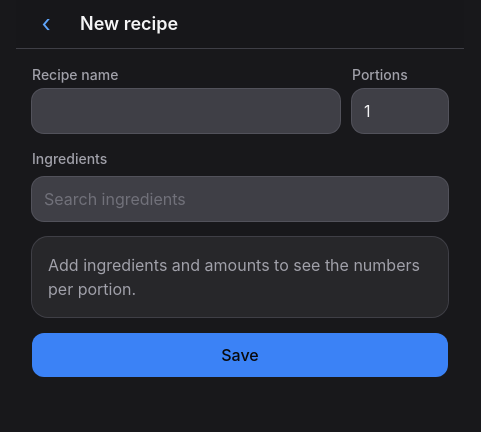
Test case: a recipe needs a name, portions and at least one ingredient
Step 1. Click the button "Save" → click(240, 355), box [32,333,448,377]
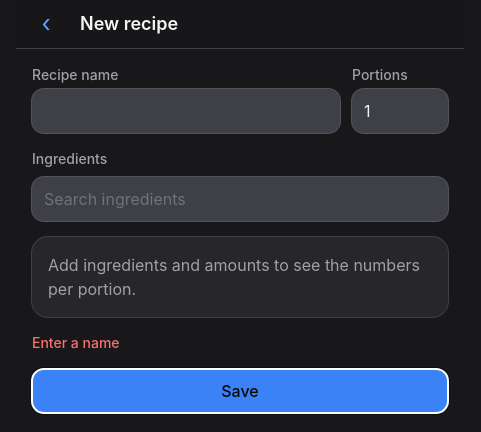
Expected: the text "Enter a name" is shown, [32,334,120,351]
Step 2. Type "Papas" into the field labelled "Recipe name" → (186, 111), box [32,89,340,133]
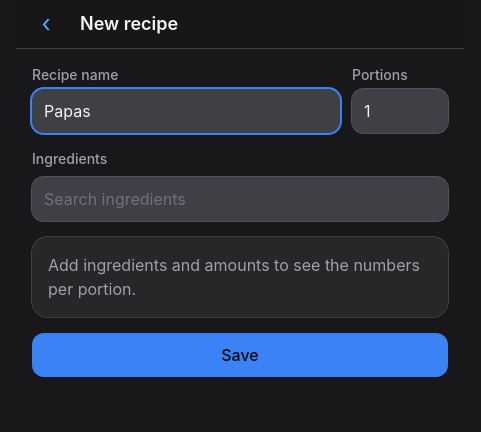
Step 3. Click the button "Save" → click(240, 355), box [32,333,448,377]
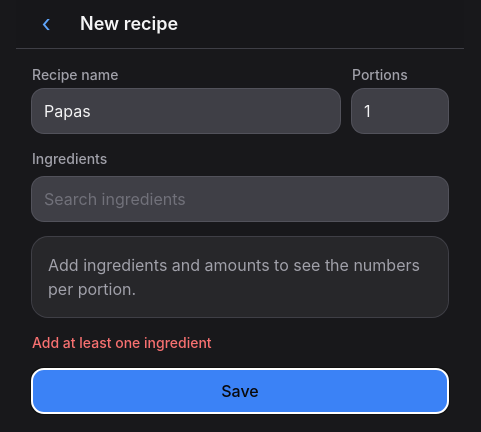
Expected: the text "Add at least one ingredient" is shown, [32,334,212,351]
